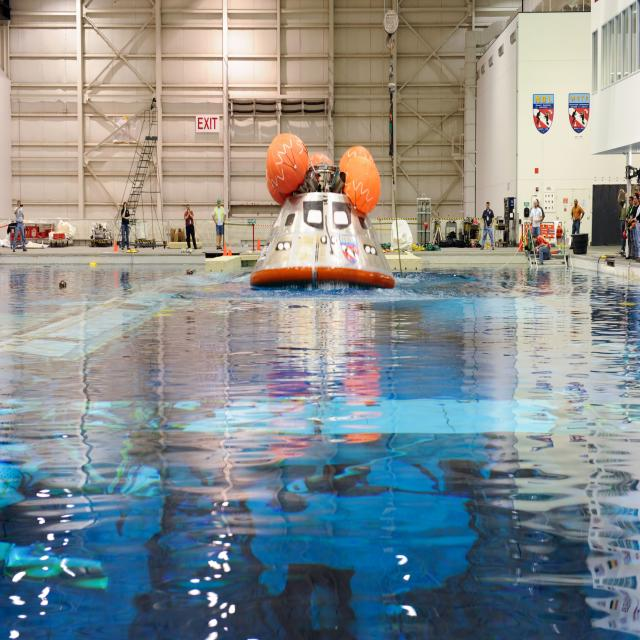Orion_capsule_mockup_(WEST)_located_on_far_end_of_pool: (250, 132, 396, 290)
